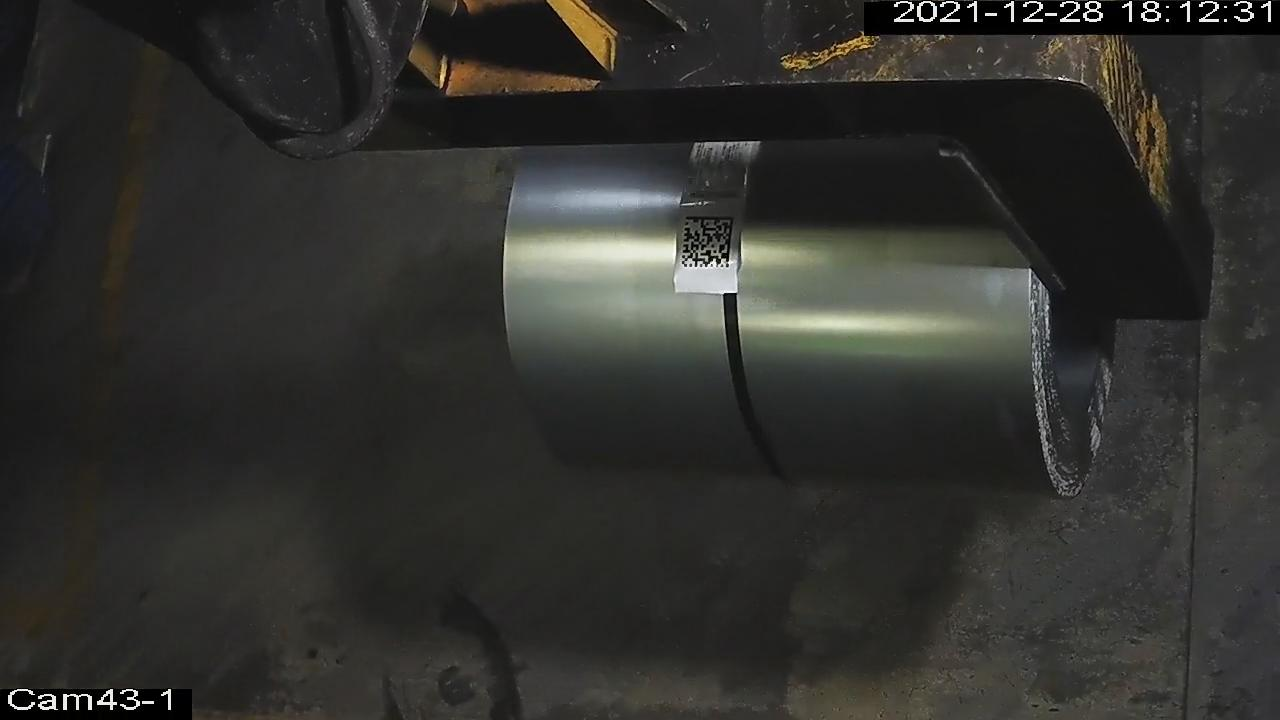data matrix: (679, 214, 737, 272)
